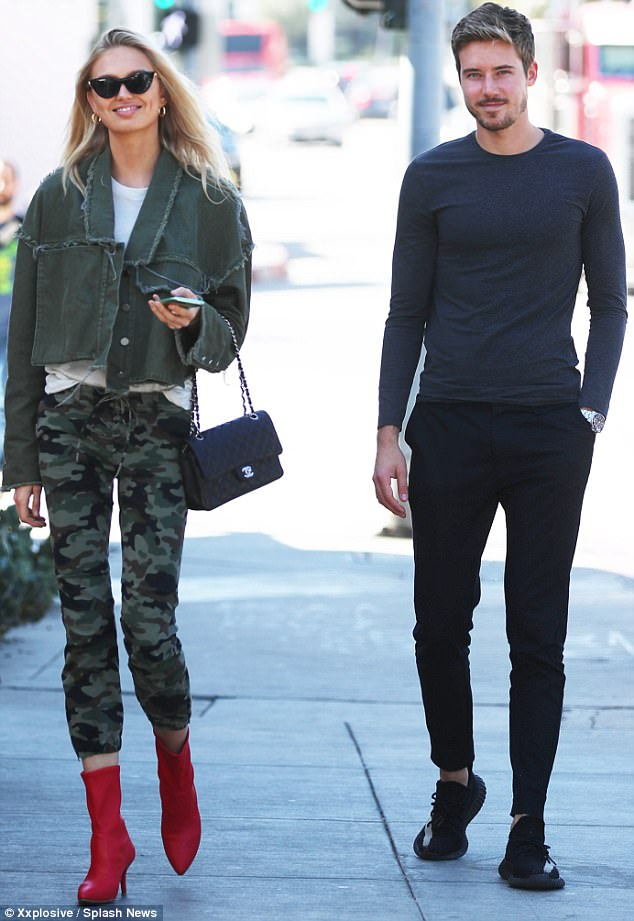Person: (368, 1, 634, 892), (1, 26, 258, 905)
